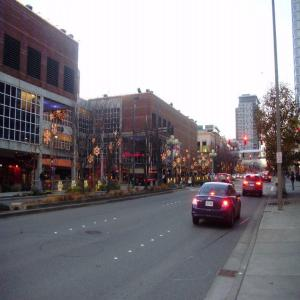Vehicle-registration-plate: (206, 201, 214, 207)
